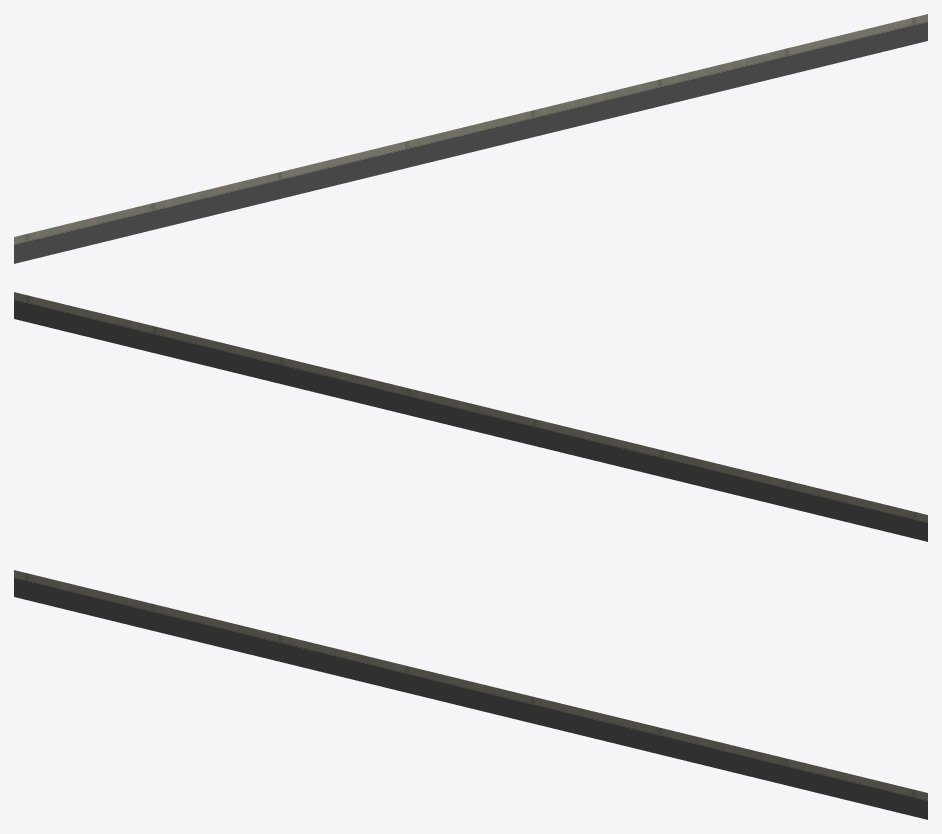
File: kd_stage_135b75_4_94_bounded_portal_piece_8.glb
The picture shows the model from 3 angles, top to bottom: view 1: azimuth 30°, elevation 25°; view 2: azimuth 150°, elevation 25°; view 3: azimuth 330°, elevation 25°; orthographic projection.
Visible parts, largest first — view 1: kd_stage_135b75_4_94_bounded_portal_piece_8; view 2: kd_stage_135b75_4_94_bounded_portal_piece_8; view 3: kd_stage_135b75_4_94_bounded_portal_piece_8.
Boxes of the visible parts, x1,y1,x2,y2 form: kd_stage_135b75_4_94_bounded_portal_piece_8: [14, 14, 927, 263]; kd_stage_135b75_4_94_bounded_portal_piece_8: [14, 292, 927, 541]; kd_stage_135b75_4_94_bounded_portal_piece_8: [14, 570, 927, 819].
Size of the model in its own units: 2.67 by 0.0753 by 0.
Materials: 1 (1 with a texture image).
